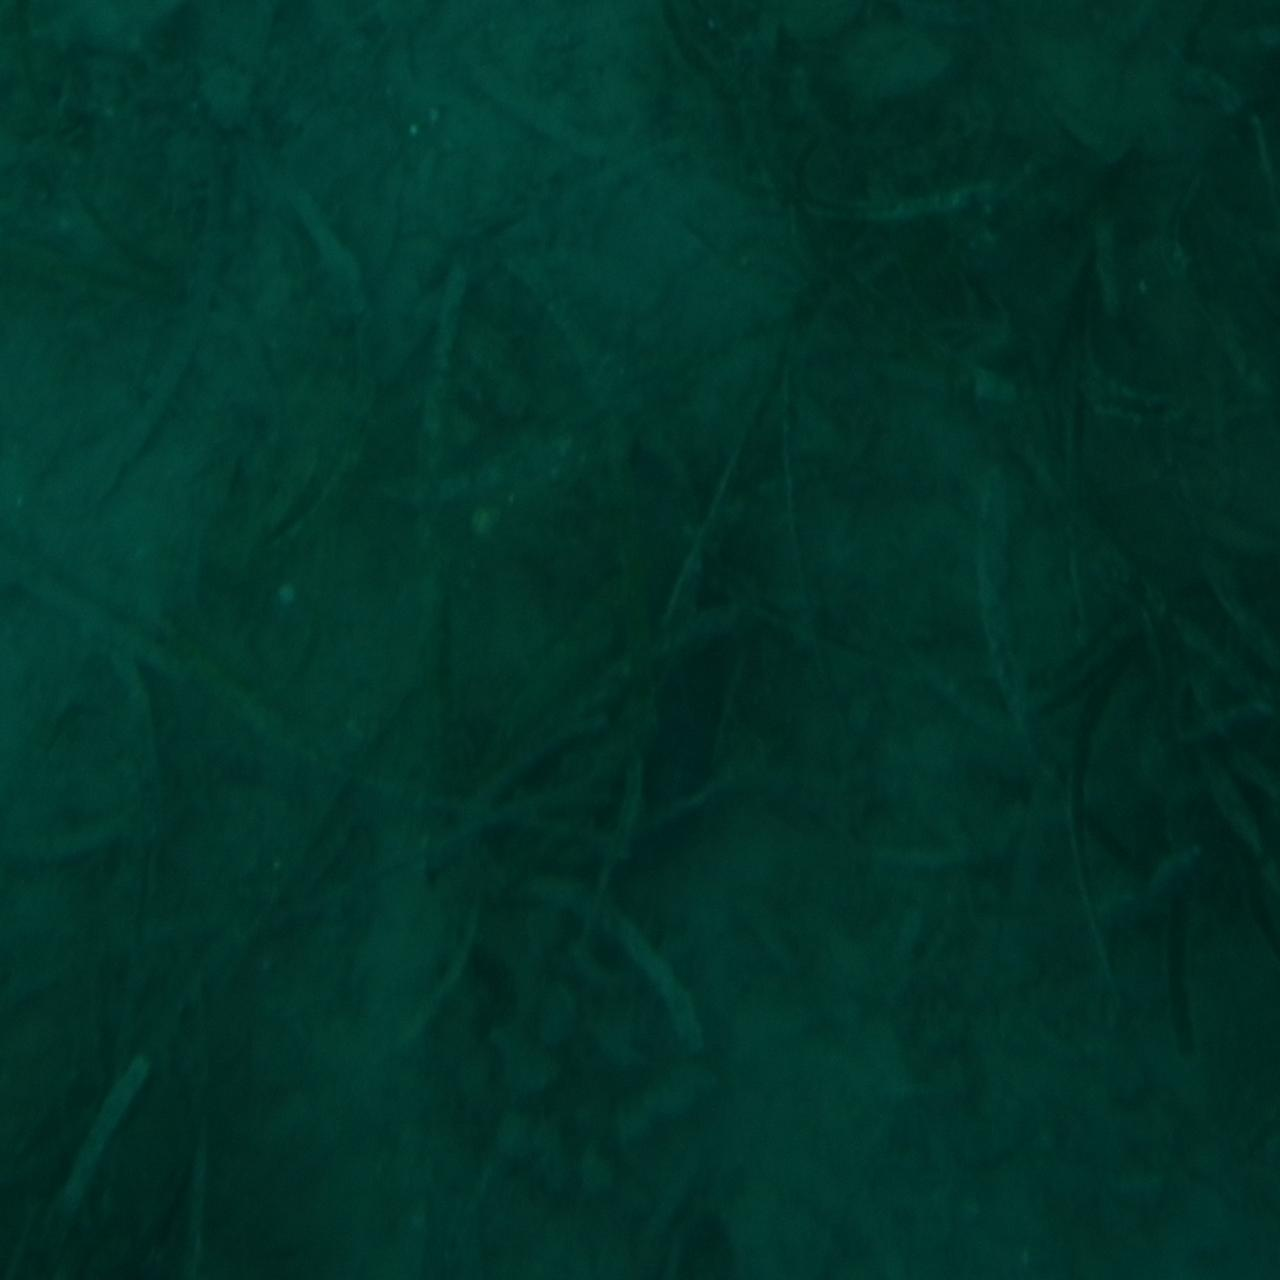Holothuria tubulosa: (538, 598, 742, 899)
